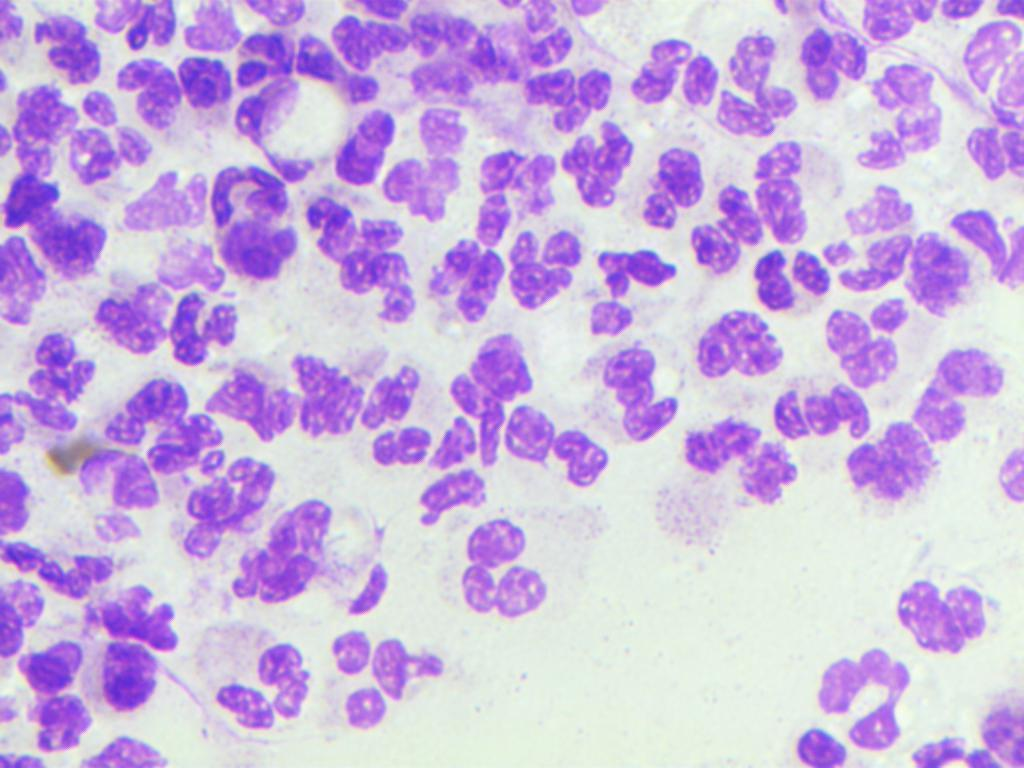neutrophil: (186, 617, 312, 738), (224, 498, 343, 619), (372, 403, 477, 533), (90, 375, 228, 471), (333, 616, 443, 736), (900, 201, 1009, 321), (165, 454, 288, 560), (268, 330, 380, 443), (805, 644, 920, 750), (207, 162, 294, 297), (849, 54, 947, 173), (7, 633, 102, 754), (451, 508, 549, 625), (504, 403, 620, 500), (908, 339, 1015, 444), (706, 26, 807, 135), (683, 414, 800, 506), (884, 548, 983, 656), (456, 149, 562, 248), (818, 183, 925, 281), (403, 1, 505, 103), (435, 329, 541, 423), (585, 336, 677, 443), (846, 413, 943, 514), (817, 291, 910, 393), (576, 240, 675, 333), (202, 348, 290, 451), (60, 448, 160, 538), (8, 80, 85, 193), (681, 180, 772, 274), (67, 88, 155, 185), (293, 198, 413, 268), (957, 4, 1024, 128), (690, 305, 793, 383), (790, 20, 873, 115), (285, 36, 385, 114), (325, 104, 407, 199), (559, 119, 648, 205), (1, 532, 117, 597), (162, 286, 250, 371), (15, 329, 107, 409), (631, 33, 725, 111), (95, 575, 180, 661), (333, 243, 420, 326), (25, 10, 105, 99), (741, 133, 840, 203), (516, 66, 622, 130), (755, 384, 878, 439), (505, 228, 587, 309), (87, 277, 178, 349), (425, 240, 503, 323), (644, 138, 713, 228), (746, 244, 835, 313), (380, 149, 460, 225), (352, 354, 422, 440), (95, 641, 168, 720), (115, 50, 174, 144), (222, 79, 314, 139), (955, 109, 1024, 188), (227, 25, 310, 90), (499, 0, 583, 64), (183, 1, 248, 69), (0, 574, 42, 662), (419, 99, 479, 158), (79, 733, 175, 768)
